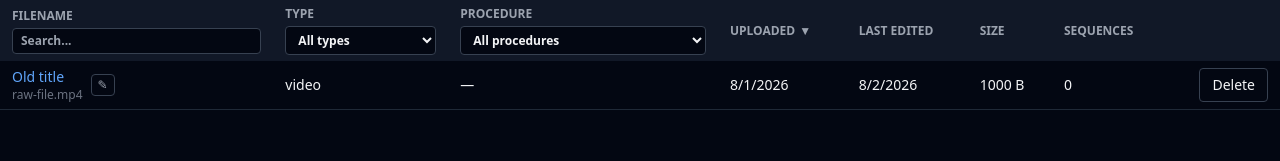
it: MediaLibraryTable › shows the backend error inline when a rename fails
Check: the text "Old title" is shown, box [12,67,64,86]
Click the button named "rename \"Old title\"": (103, 85) [90,74,115,96]
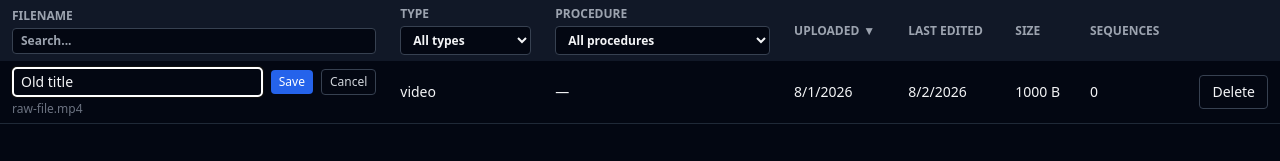
Replace the text in the field named "name" with "Whatever": (137, 82) [12,67,263,97]
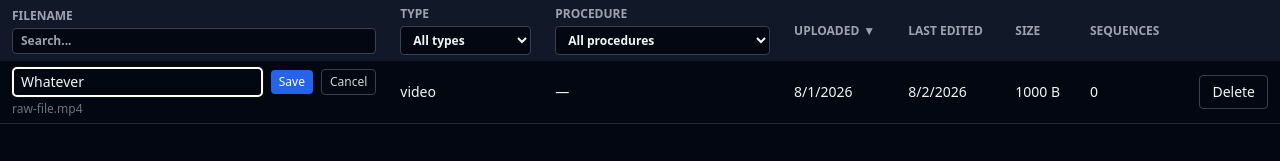
Click the button "Save": (292, 82) [271,70,313,94]
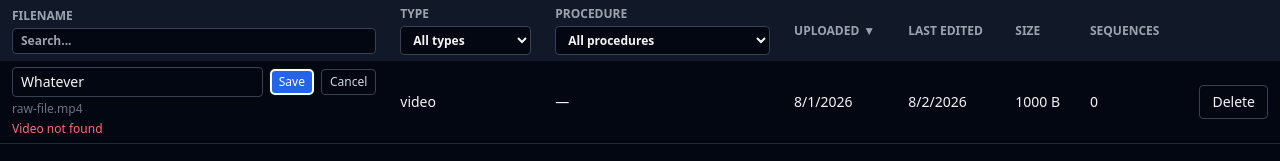
Check: the text "Video not found" is shown, box [12,120,103,137]
